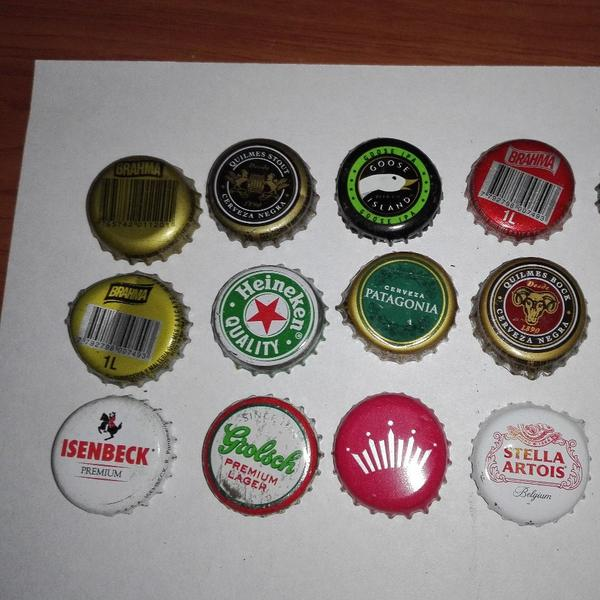heineken: (206, 262, 329, 375)
